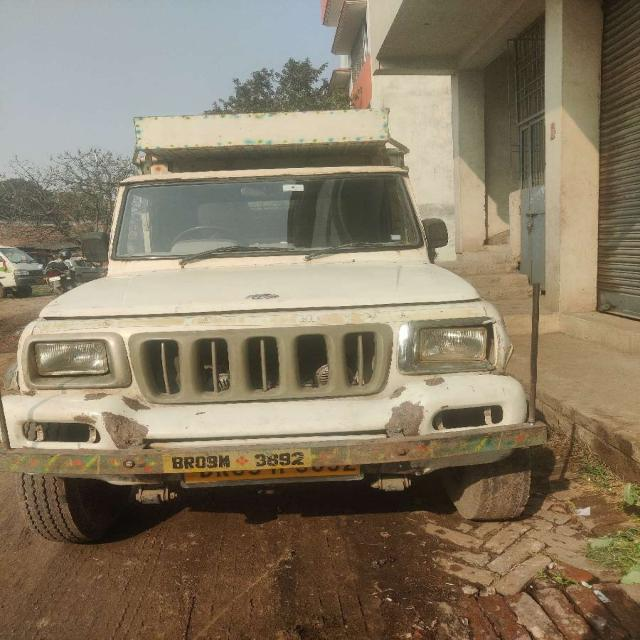light_vehicle: (7, 179, 543, 497)
